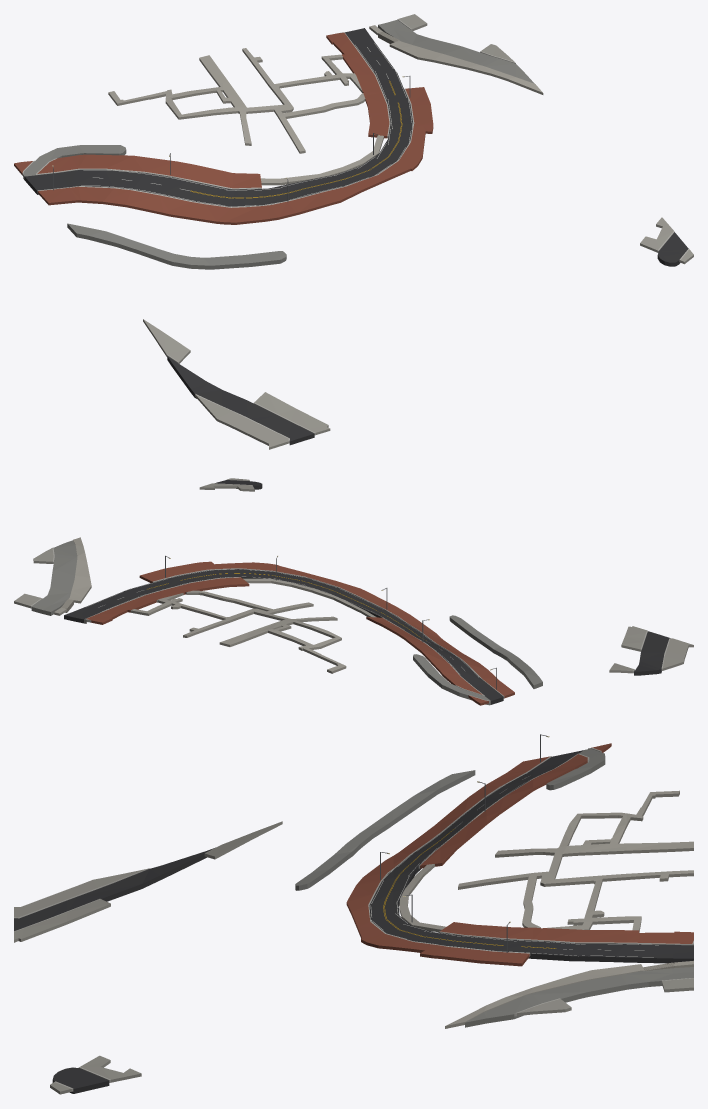
File: 18-218893-118961.ef1e3beb.glb
The picture shows the model from 3 angles, top to bottom: view 1: azimuth 30°, elevation 25°; view 2: azimuth 150°, elevation 25°; view 3: azimuth 270°, elevation 25°; orthographic projection. The views are drawn at different scales.
Size of the model in its own units: 147 by 45.83 by 146.
